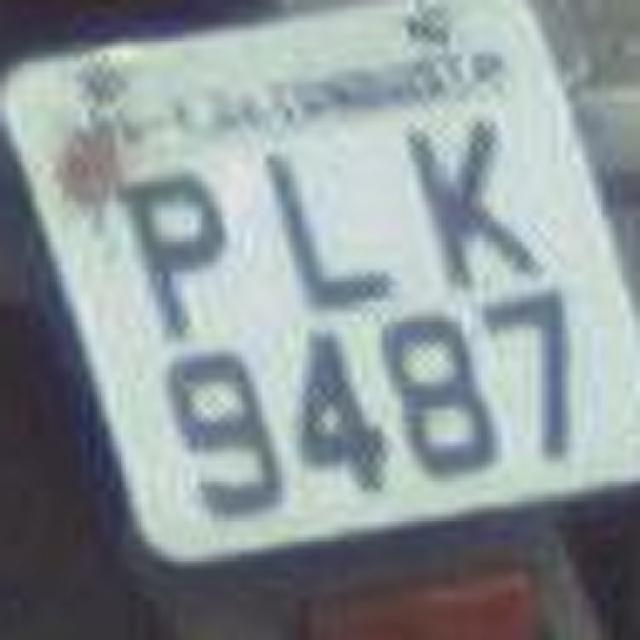4: (268, 308, 408, 512)
7: (468, 280, 592, 460)
8: (369, 288, 516, 492)
9: (144, 324, 304, 528)
L: (248, 128, 404, 320)
P: (100, 151, 245, 344)
